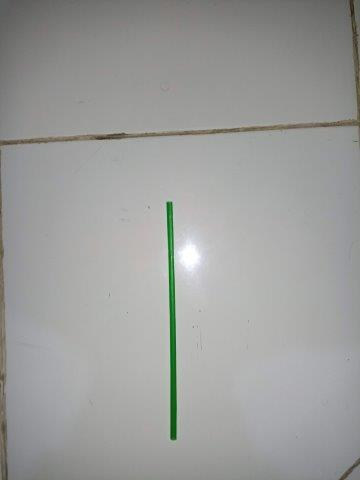sedotan: (166, 201, 177, 440)
